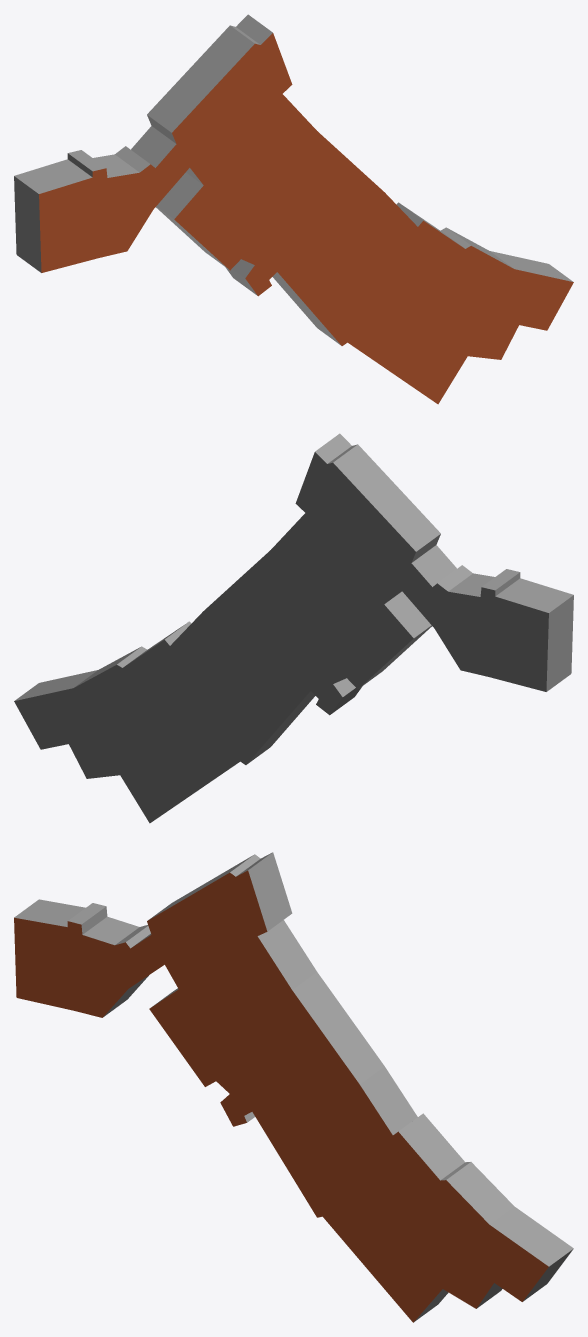
Rendered from construction_1575_assumed_A_Casa_h6m.obj.
3 renders of one model, top to bottom at view 1: azimuth 30°, elevation 25°; view 2: azimuth 150°, elevation 25°; view 3: azimuth 330°, elevation 25°, orthographic.
Visible parts, largest first — view 1: construction_1575_assumed_A_Casa; view 2: construction_1575_assumed_A_Casa; view 3: construction_1575_assumed_A_Casa.
Part boxes in pixels (left/top/right/bottom): construction_1575_assumed_A_Casa: left=14, top=14, right=573, bottom=404; construction_1575_assumed_A_Casa: left=14, top=433, right=573, bottom=823; construction_1575_assumed_A_Casa: left=14, top=852, right=573, bottom=1322.
Bounding box in the file's own units: 74.14 × 54.58 × 6.
